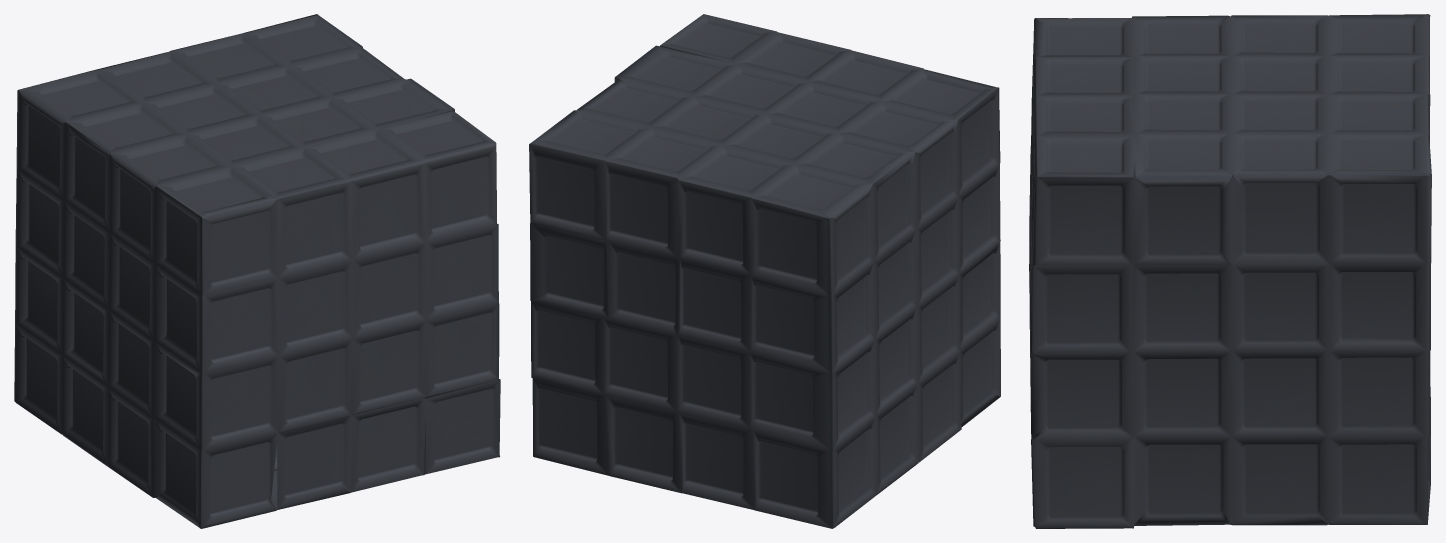
The model's file is modular+ceiling+tiles+3d+model.glb.
3 views of the same model, side by side, from view 1: azimuth 30°, elevation 25°; view 2: azimuth 150°, elevation 25°; view 3: azimuth 270°, elevation 25° (orthographic). The views are drawn at different scales.
Visible parts, largest first — view 1: tripo_node_01e559e3-7b20-4ddc-84d2-ed923ef7db98; view 2: tripo_node_01e559e3-7b20-4ddc-84d2-ed923ef7db98; view 3: tripo_node_01e559e3-7b20-4ddc-84d2-ed923ef7db98.
Boxes of the visible parts, x1,y1,x2,y2 form: tripo_node_01e559e3-7b20-4ddc-84d2-ed923ef7db98: (14, 14, 500, 528); tripo_node_01e559e3-7b20-4ddc-84d2-ed923ef7db98: (529, 14, 1000, 528); tripo_node_01e559e3-7b20-4ddc-84d2-ed923ef7db98: (1029, 14, 1431, 528).
Bounding box in the file's own units: 0.9858 × 0.9604 × 0.9976.
1 material, 1 textured.
